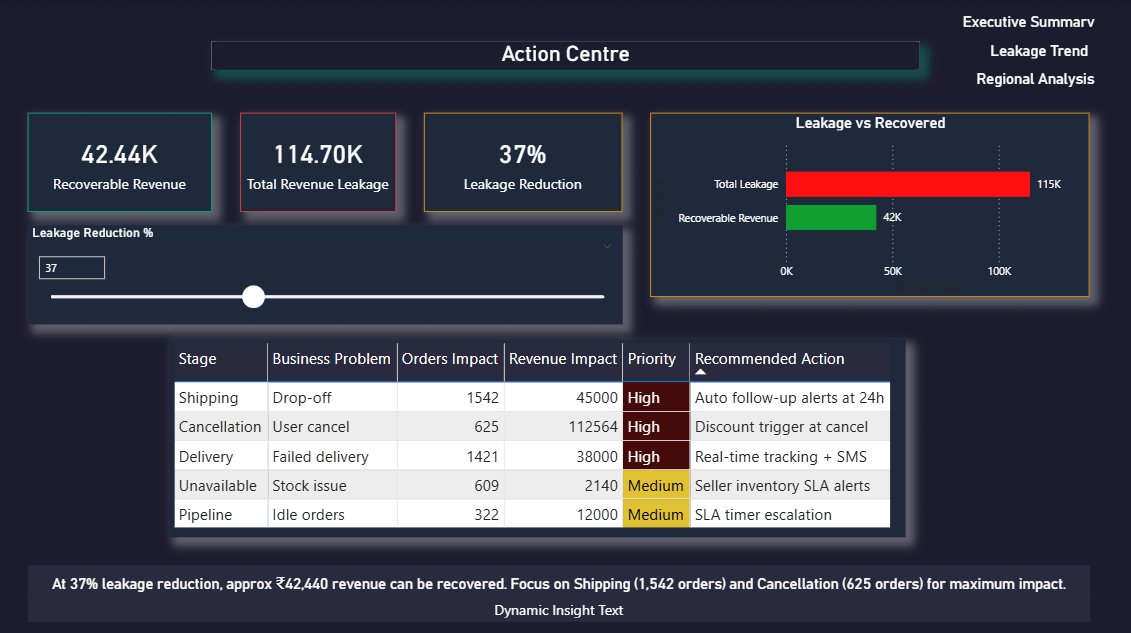

The dashboard page shown, as its layout file describes it:
{"tool":"powerbi","page":{"name":"Action Center","canvas":[1280,720],"ordinal":3},"visuals":[{"type":"tableEx","fields":{"Values":["Action_Table.Stage","Action_Table.Issue","Sum(Action_Table.Orders_Lost)","Sum(Action_Table.Revenue_Impact)","Action_Table.Priority","Action_Table.Action"]},"box":[192,384,832,224],"z":0},{"type":"card","fields":{"Values":["Action_Table.Recoverable Revenue"]},"box":[32,128,208,112],"z":2000},{"type":"actionButton","title":"Leakage Trend","box":[1120,48,128,32],"z":3000},{"type":"actionButton","title":"Executive Summary","box":[1088,16,192,16],"z":4000},{"type":"actionButton","title":"Regional Analysis","box":[1104,80,160,32],"z":5000},{"type":"textbox","title":"Action Centre","box":[240,48,800,32],"z":5001},{"type":"card","fields":{"Values":["Business Recommendations Table.Total Revenue Lost"]},"box":[272,128,176,112],"z":5002},{"type":"card","fields":{"Values":["Business Recommendations Table.Selected Reduction %"]},"box":[480,128,224,112],"z":5003},{"type":"slicer","title":"Leakage Reduction %","fields":{"Values":["Leakage Reduction %.Leakage Reduction %"]},"box":[32,256,672,112],"z":5006},{"type":"card","fields":{"Values":["Business Recommendations Table.Insight Text"]},"box":[32,640,1200,64],"z":5007},{"type":"clusteredBarChart","title":"Leakage vs Recovered","fields":{"Category":["LeakageComparison.Category"],"Y":["Action_Table.Bar Chart Value"]},"box":[736,128,496,208],"z":5008}]}

Visuals, with their boxes in screenshot pixels (x1, y1, x2, y2), scaled from the page's 1280x720 canvas onto the 1131x633 screenshot:
tableEx - Action_Table.Stage x Action_Table.Issue: [x1=170, y1=338, x2=905, y2=535]
card - Action_Table.Recoverable Revenue: [x1=28, y1=113, x2=212, y2=211]
"Leakage Trend" actionButton: [x1=990, y1=42, x2=1103, y2=70]
"Executive Summary" actionButton: [x1=961, y1=14, x2=1130, y2=28]
"Regional Analysis" actionButton: [x1=975, y1=70, x2=1117, y2=98]
"Action Centre" textbox: [x1=212, y1=42, x2=919, y2=70]
card - Business Recommendations Table.Total Revenue Lost: [x1=240, y1=113, x2=396, y2=211]
card - Business Recommendations Table.Selected Reduction %: [x1=424, y1=113, x2=622, y2=211]
"Leakage Reduction %" slicer: [x1=28, y1=225, x2=622, y2=324]
card - Business Recommendations Table.Insight Text: [x1=28, y1=563, x2=1089, y2=619]
"Leakage vs Recovered" clusteredBarChart: [x1=650, y1=113, x2=1089, y2=295]
